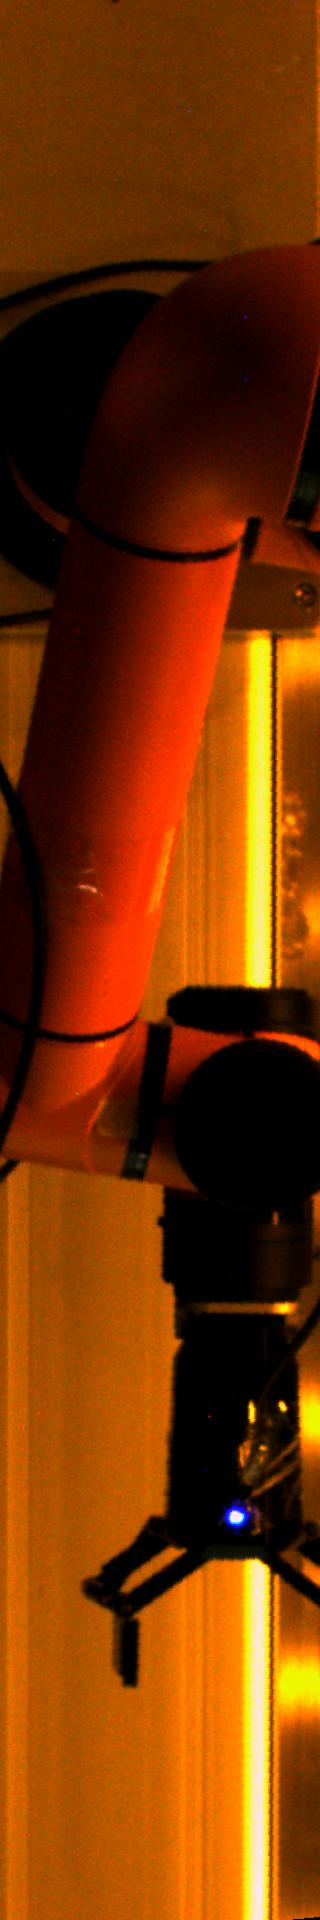keyPoint_1: (221, 1499, 251, 1529)
